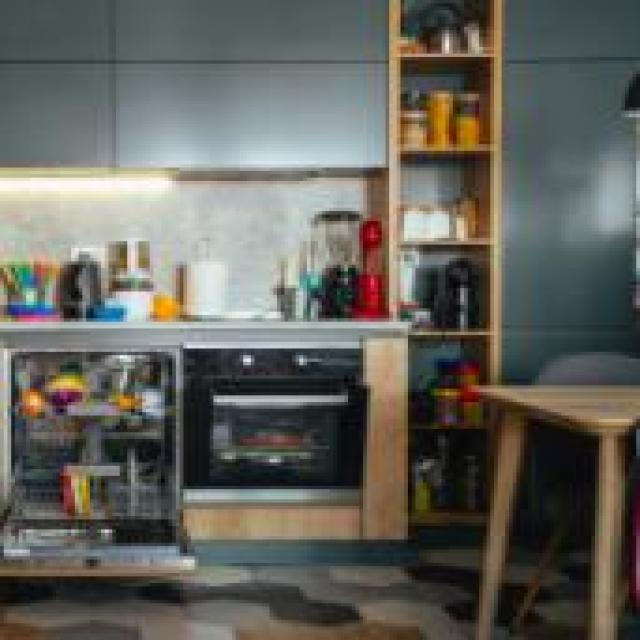dishwasher: (0, 342, 191, 573)
